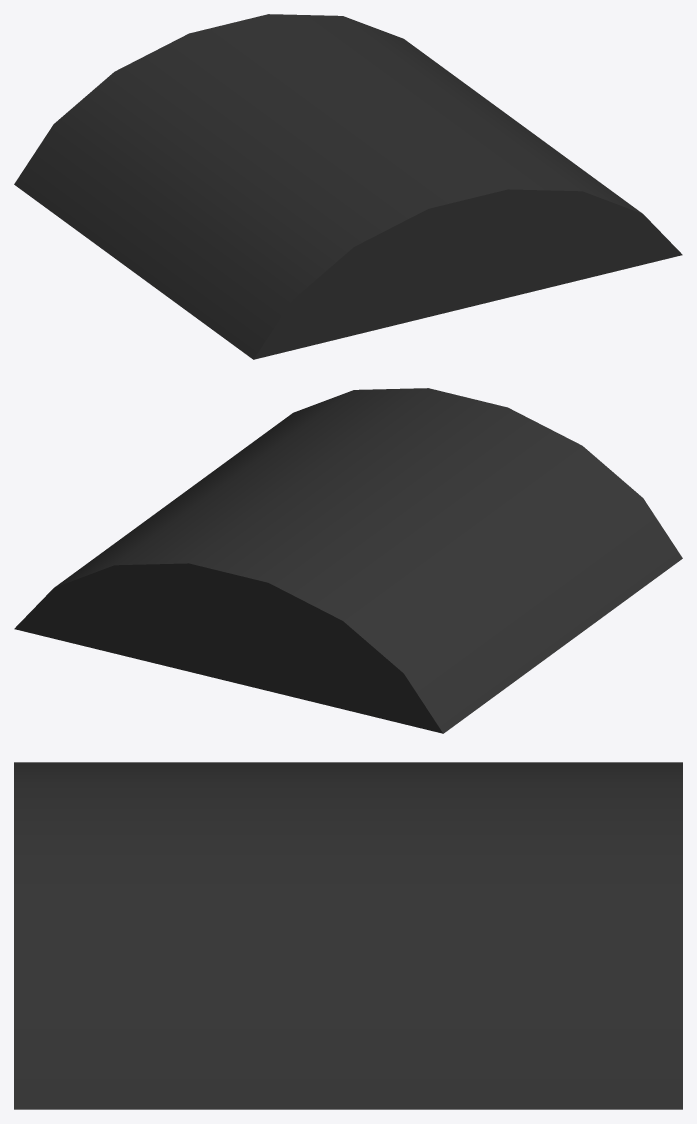
File: Roof D1.FBX
The picture shows the model from 3 angles, top to bottom: view 1: azimuth 30°, elevation 25°; view 2: azimuth 150°, elevation 25°; view 3: azimuth 270°, elevation 25°; orthographic projection. The views are drawn at different scales.
Parts seen in each view (by area): view 1: Cylinder001; view 2: Cylinder001; view 3: Cylinder001.
Part boxes in pixels (x1=…): Cylinder001: x1=14, y1=14, x2=682, y2=359; Cylinder001: x1=14, y1=388, x2=682, y2=733; Cylinder001: x1=14, y1=762, x2=682, y2=1109.
Bounding box in the file's own units: 137 × 32.91 × 132.
